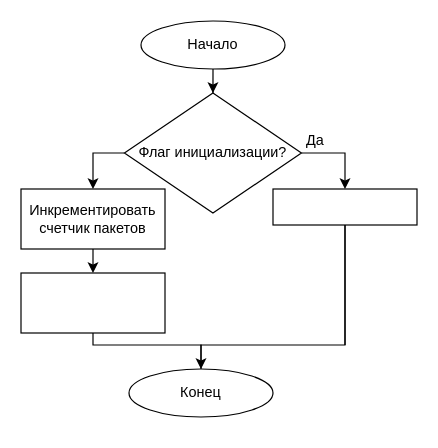
The diagram is 438 pixels wide and 448 high, and some of its shapes have lost their labels. The centre of each missing label's shape, as x and y in pixels:
"Отправить пакет-инициализацию" goes at (x=344, y=206).
"Сформировать и отправить пакет" goes at (x=92, y=302).
